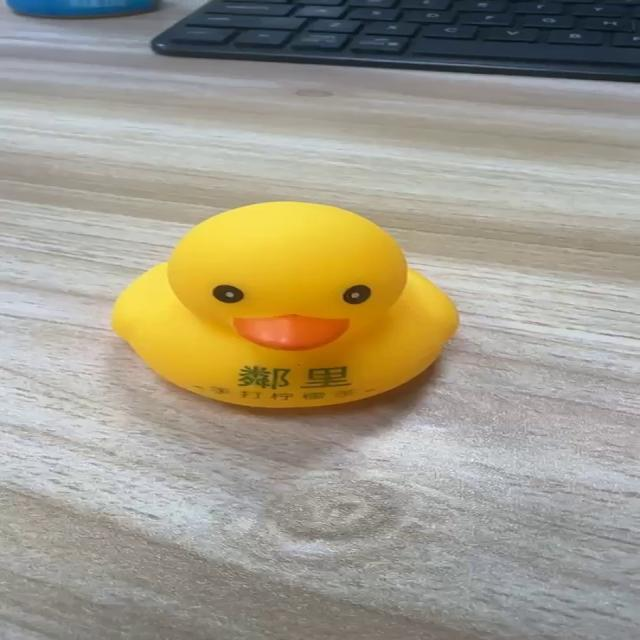yellow_duck: (109, 200, 460, 410)
